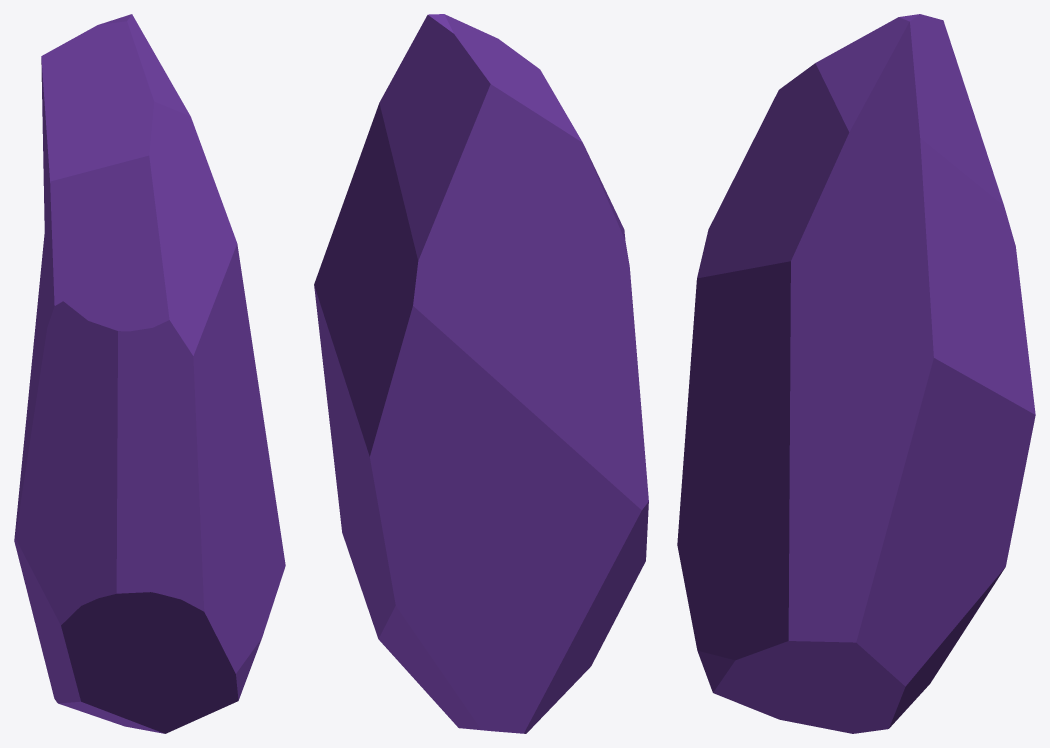
File: rock7.fbx
3 renders of one model, left to right at view 1: azimuth 30°, elevation 25°; view 2: azimuth 150°, elevation 25°; view 3: azimuth 270°, elevation 25°, orthographic. The views are drawn at different scales.
Parts seen in each view (by area): view 1: Cube_008; view 2: Cube_008; view 3: Cube_008.
Boxes of the visible parts, <box> form: Cube_008: <box>14,14,285,733</box>; Cube_008: <box>314,14,648,733</box>; Cube_008: <box>677,14,1035,733</box>.
Size of the model in its own units: 1.93 by 4.73 by 2.1.
